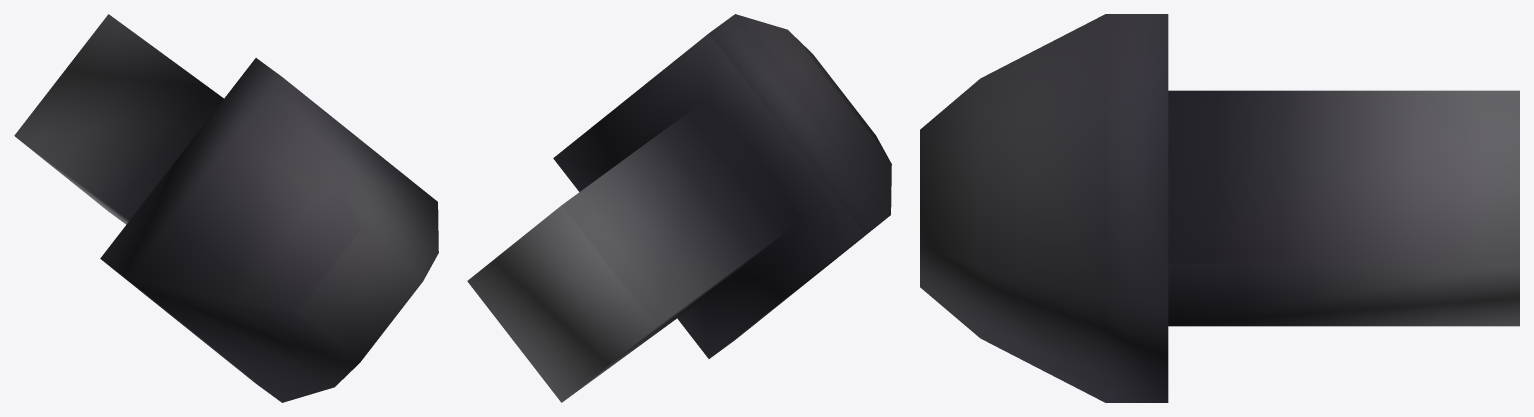
The model's file is Shotgun_PSX_Sight.fbx.
3 renders of one model, left to right at view 1: azimuth 30°, elevation 25°; view 2: azimuth 150°, elevation 25°; view 3: azimuth 270°, elevation 25°, orthographic. The views are drawn at different scales.
Parts seen in each view (by area): view 1: Sight; view 2: Sight; view 3: Sight.
Part boxes in pixels (x1,y1,x2,y2): Sight: [14, 14, 438, 402]; Sight: [467, 14, 891, 402]; Sight: [920, 14, 1519, 402].
Size of the model in its own units: 8.65 by 8.65 by 12.09.
